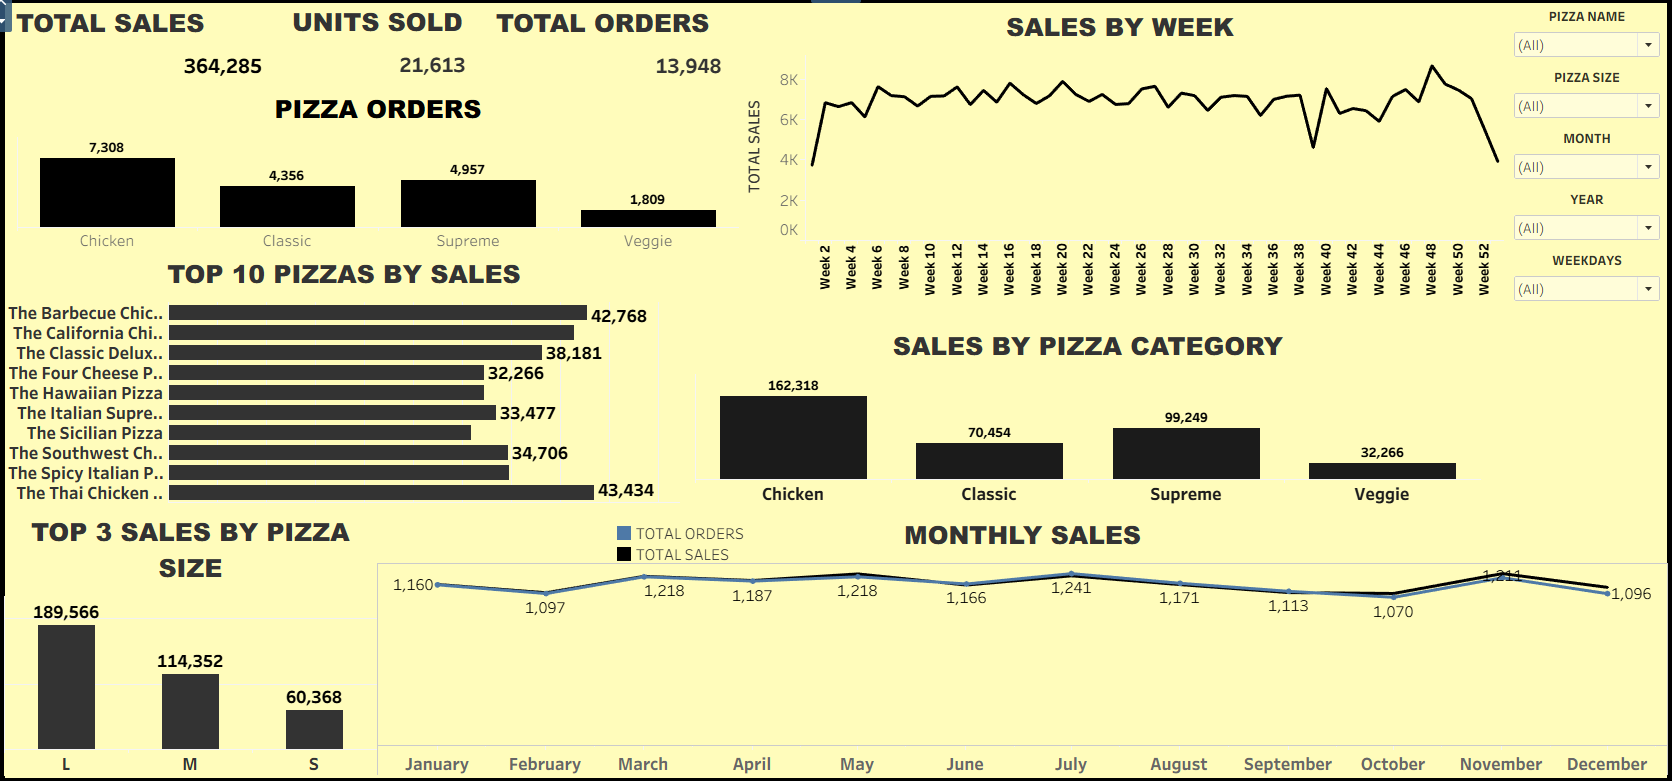

The page's visual inventory and layout, read from the dashboard file:
{"tool":"tableau","page":{"name":"Dashboard 1","canvas":[1000,1000],"units":"permille","ordinal":0},"visuals":[{"type":"worksheet","title":"UNITS SOLD","mark":"Automatic","box":[175.6,11.2,126.3,129.8]},{"type":"worksheet","title":"SALESKPI","mark":"Automatic","box":[12,12.5,155.7,101.1]},{"type":"worksheet","title":"TOTAL ORDERS","mark":"Automatic","box":[296.4,12.5,152.1,119.9]},{"type":"filter","title":"sales by pizza name","param":"[federated.08r2sse1diyjj315k0pj10kqinth].[Pizza Name Set]","box":[897.5,16.2,94.8,76.2]},{"type":"worksheet","title":"SALES BY WEEK","mark":"Automatic","rows":["Calculation_0190261292605440"],"cols":["order_date"],"box":[440.8,17.5,455,365.8]},{"type":"filter","title":"sales by pizza size","param":"[federated.08r2sse1diyjj315k0pj10kqinth].[Pizza Size Set]","box":[897.5,92.4,94.8,76.2]},{"type":"worksheet","title":"Sheet 10","mark":"Automatic","rows":["Calculation_0190261294104578"],"cols":["pizza_category"],"box":[14.8,119.9,427.7,207.2]},{"type":"filter","title":"SALES BY CATEGORY","param":"[federated.08r2sse1diyjj315k0pj10kqinth].[mn:order_date:ok]","box":[897.5,168.6,94.8,76.2]},{"type":"filter","title":"SALES BY CATEGORY","param":"[federated.08r2sse1diyjj315k0pj10kqinth].[yr:order_date:ok]","box":[897.5,244.7,94.8,76.2]},{"type":"filter","title":"SALES BY WEEK","param":"[federated.08r2sse1diyjj315k0pj10kqinth].[wd:order_date:ok]","box":[897.5,320.9,94.8,76.2]},{"type":"worksheet","title":"sales by pizza name","mark":"Automatic","rows":["pizza_name"],"cols":["Calculation_0190261292605440"],"box":[9.6,325.8,398.1,314.6]},{"type":"worksheet","title":"SALES BY CATEGORY","mark":"Automatic","rows":["Calculation_0190261292605440"],"cols":["pizza_category"],"box":[416.5,415.7,465.6,228.5]},{"type":"worksheet","title":"sales by pizza size","mark":"Automatic","rows":["Calculation_0190261292605440"],"cols":["pizza_size"],"box":[7.2,647.9,220.7,333.3]},{"type":"worksheet","title":"MONTHLY SALES","mark":"Automatic","rows":["Calculation_0190261292605440","Calculation_0190261294104578"],"cols":["order_date"],"box":[227.9,651.7,764.9,329.6]},{"type":"legend","title":"MONTHLY SALES","param":"[federated.08r2sse1diyjj315k0pj10kqinth].[:Measure Names]","box":[368.5,665.4,82.9,79.9]}]}

Visuals, with their boxes on the dashboard's canvas, which has no fixed pixel size, in thousandths of its width and height (x1, y1, x2, y2). These are canvas units, not pixel positions in the 1672x781 screenshot, which may show the page scaled, cropped or inside an application window:
"UNITS SOLD" worksheet: {"x1": 176, "y1": 11, "x2": 302, "y2": 141}
"SALESKPI" worksheet: {"x1": 12, "y1": 12, "x2": 168, "y2": 114}
"TOTAL ORDERS" worksheet: {"x1": 296, "y1": 12, "x2": 448, "y2": 132}
"sales by pizza name" filter: {"x1": 898, "y1": 16, "x2": 992, "y2": 92}
"SALES BY WEEK" worksheet: {"x1": 441, "y1": 18, "x2": 896, "y2": 383}
"sales by pizza size" filter: {"x1": 898, "y1": 92, "x2": 992, "y2": 169}
"Sheet 10" worksheet: {"x1": 15, "y1": 120, "x2": 442, "y2": 327}
"SALES BY CATEGORY" filter: {"x1": 898, "y1": 169, "x2": 992, "y2": 245}
"SALES BY CATEGORY" filter: {"x1": 898, "y1": 245, "x2": 992, "y2": 321}
"SALES BY WEEK" filter: {"x1": 898, "y1": 321, "x2": 992, "y2": 397}
"sales by pizza name" worksheet: {"x1": 10, "y1": 326, "x2": 408, "y2": 640}
"SALES BY CATEGORY" worksheet: {"x1": 416, "y1": 416, "x2": 882, "y2": 644}
"sales by pizza size" worksheet: {"x1": 7, "y1": 648, "x2": 228, "y2": 981}
"MONTHLY SALES" worksheet: {"x1": 228, "y1": 652, "x2": 993, "y2": 981}
"MONTHLY SALES" legend: {"x1": 368, "y1": 665, "x2": 451, "y2": 745}
